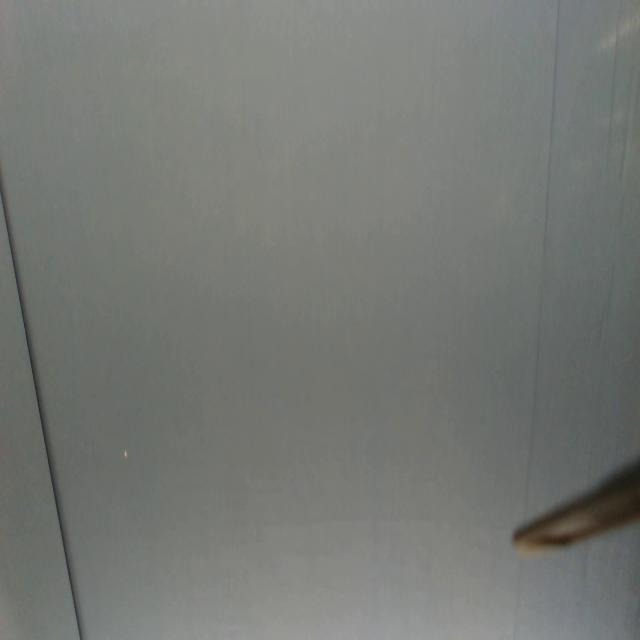crease: (0, 186, 83, 640), (527, 0, 561, 494), (607, 0, 620, 168), (620, 63, 634, 178)
hole: (124, 446, 128, 462)
